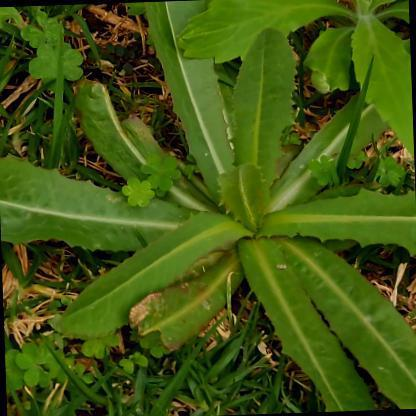Weeds: (0, 0, 415, 415), (176, 0, 415, 169)
